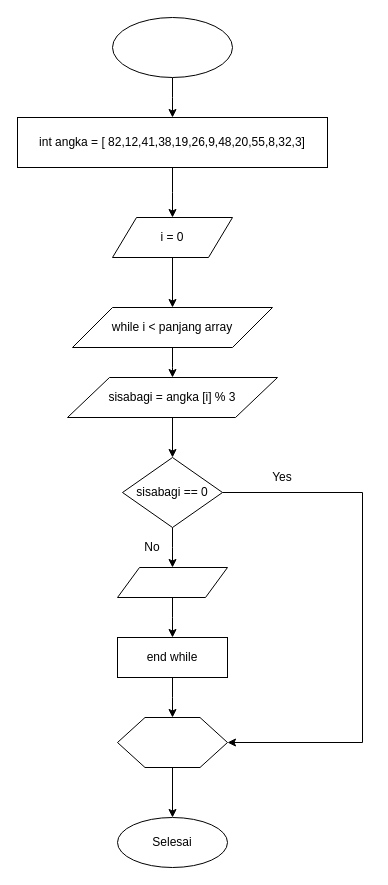
Some shapes in this 388 by 885 pixel diagram are drawn without their labels. The box of each missing label's shape, as (x1, y1, x2, y2) in pixels:
angka [ i ]: (116, 716, 228, 768)
i ++: (116, 566, 228, 598)
Mulai: (112, 16, 232, 78)
